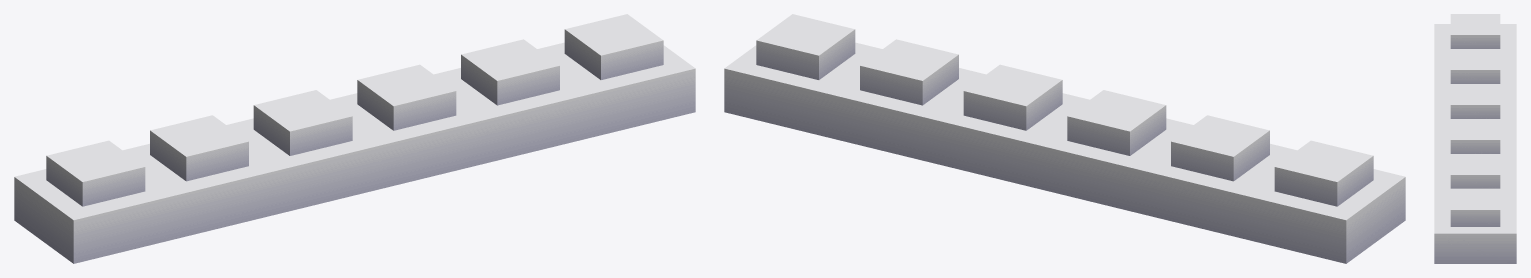
Rendered from square_lq_plate_1x6.glb.
3 views of the same model, side by side, from view 1: azimuth 30°, elevation 25°; view 2: azimuth 150°, elevation 25°; view 3: azimuth 270°, elevation 25° (orthographic). The views are drawn at different scales.
Visible parts, largest first — view 1: square-lq-plate-1x6; view 2: square-lq-plate-1x6; view 3: square-lq-plate-1x6.
Boxes of the visible parts, box(x1,y1,x2,y2) form: square-lq-plate-1x6: box(14, 14, 695, 263); square-lq-plate-1x6: box(724, 14, 1405, 263); square-lq-plate-1x6: box(1434, 14, 1516, 263).
Size of the model in its own units: 0.477 by 0.05 by 0.079.
1 material, 1 textured.
